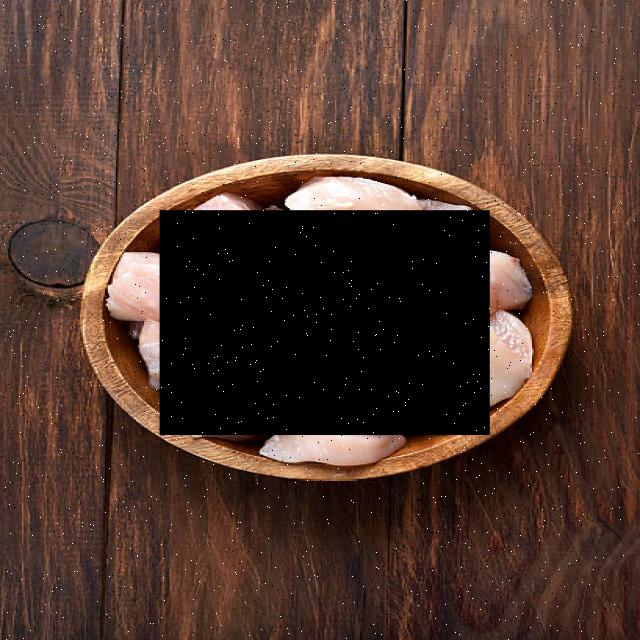Chicken: (161, 211, 491, 436)
